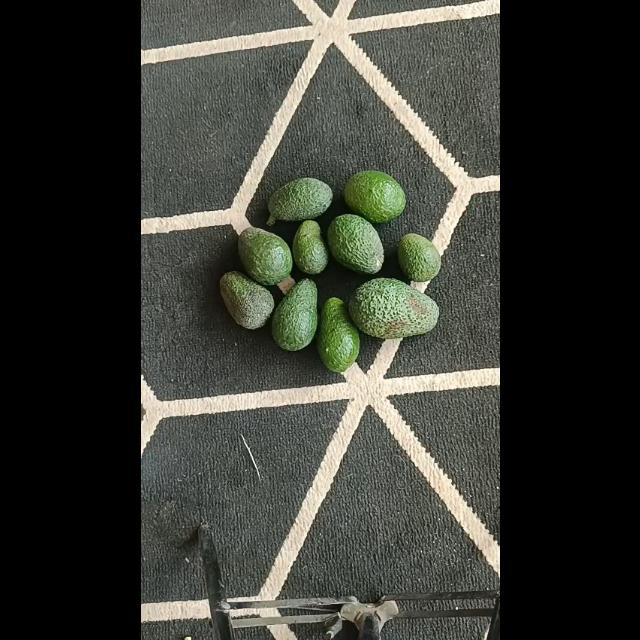Primera: (348, 278, 438, 338)
Segunda: (326, 214, 384, 274), (342, 169, 406, 223), (270, 277, 318, 349), (235, 227, 292, 286), (316, 296, 359, 372)
Tercera: (218, 271, 274, 329), (266, 176, 332, 220), (396, 232, 440, 282), (292, 219, 328, 275)
